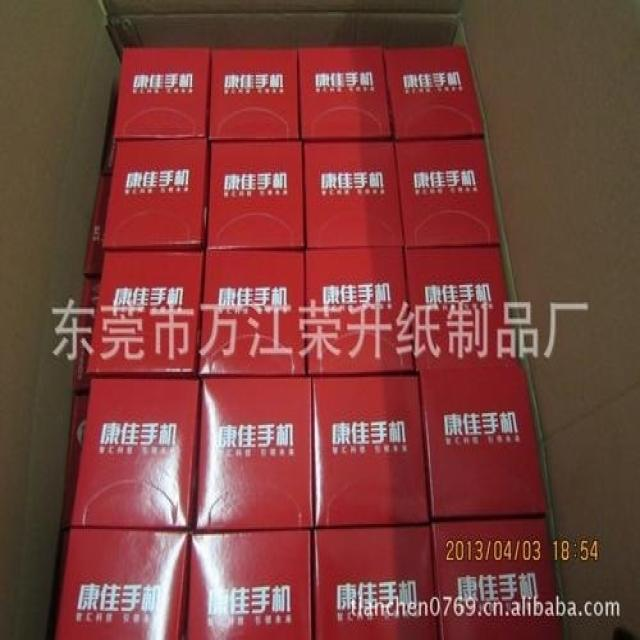box: (71, 379, 202, 532), (418, 365, 546, 519), (195, 379, 315, 533), (312, 376, 431, 527), (434, 517, 562, 638), (55, 528, 191, 638), (314, 525, 442, 637), (89, 250, 205, 373), (406, 245, 520, 369), (196, 249, 305, 377), (306, 249, 413, 375), (185, 531, 311, 638), (103, 138, 207, 249), (396, 137, 499, 247), (303, 139, 402, 248), (208, 139, 306, 248), (382, 45, 483, 139), (114, 45, 210, 138), (299, 46, 392, 141), (208, 48, 299, 139)
